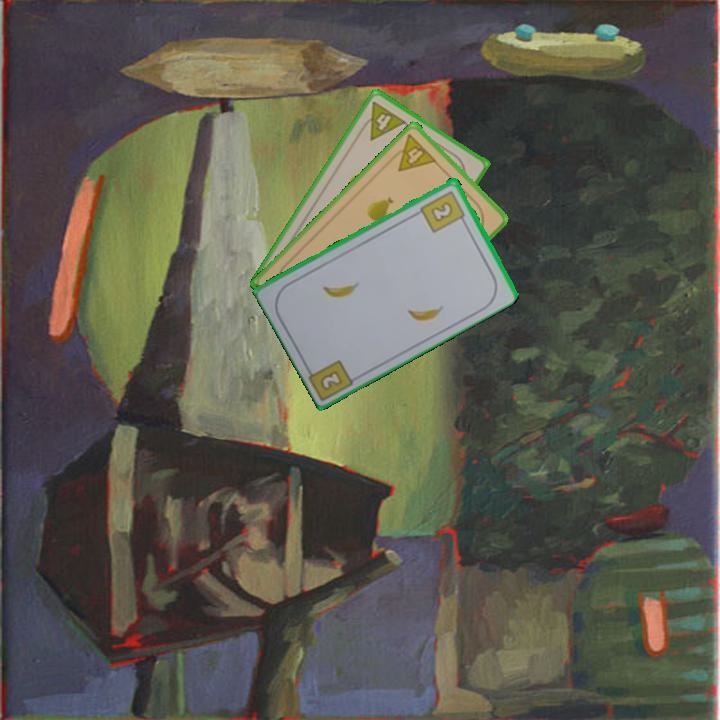2b: (417, 187, 469, 235), (319, 369, 343, 391)
4p: (355, 97, 409, 143), (386, 130, 439, 174)
